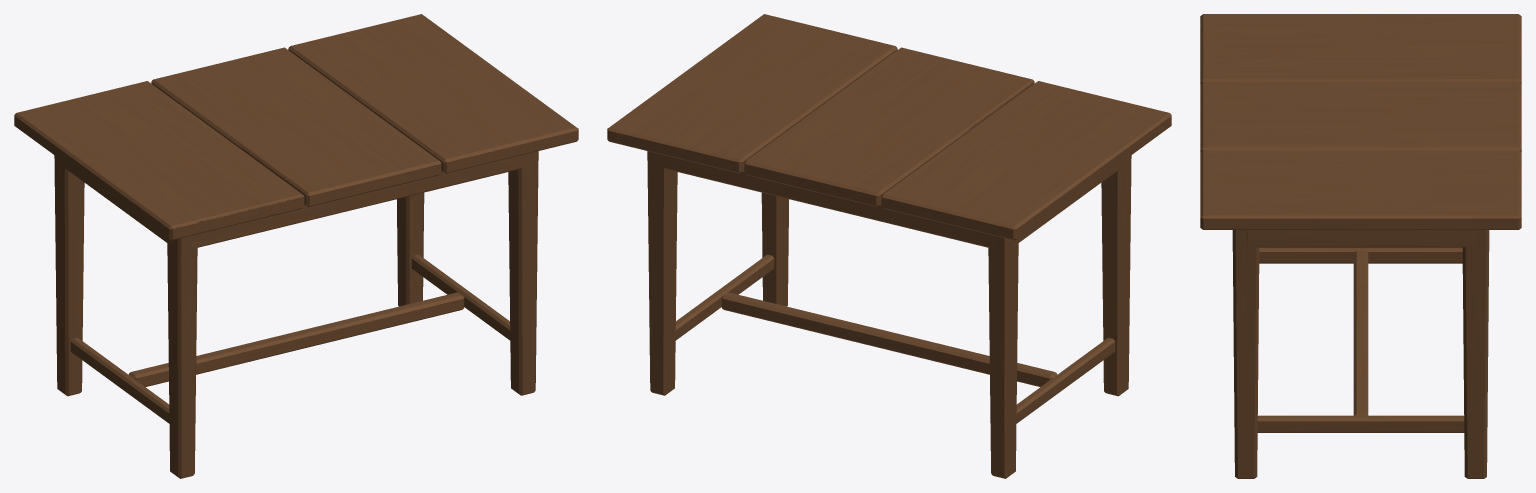
The model's file is mdl_ra4_mesa.fbx.
The picture shows the model from 3 angles, left to right: view 1: azimuth 30°, elevation 25°; view 2: azimuth 150°, elevation 25°; view 3: azimuth 270°, elevation 25°; orthographic projection.
Visible parts, largest first — view 1: SM_Chimay_Mesa; view 2: SM_Chimay_Mesa; view 3: SM_Chimay_Mesa.
Boxes of the visible parts, x1,y1,x2,y2 form: SM_Chimay_Mesa: [14, 14, 578, 478]; SM_Chimay_Mesa: [607, 14, 1171, 478]; SM_Chimay_Mesa: [1200, 14, 1521, 478].
Size of the model in its own units: 1.2 by 0.76 by 0.8.
